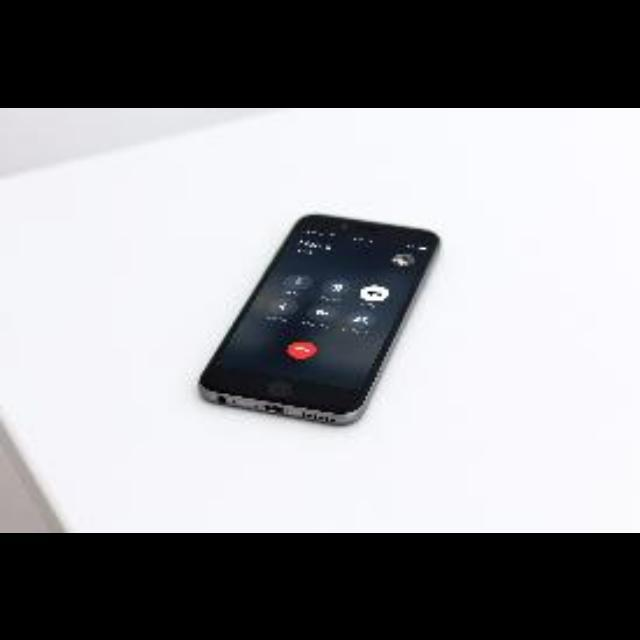Phone: (164, 210, 460, 478)
